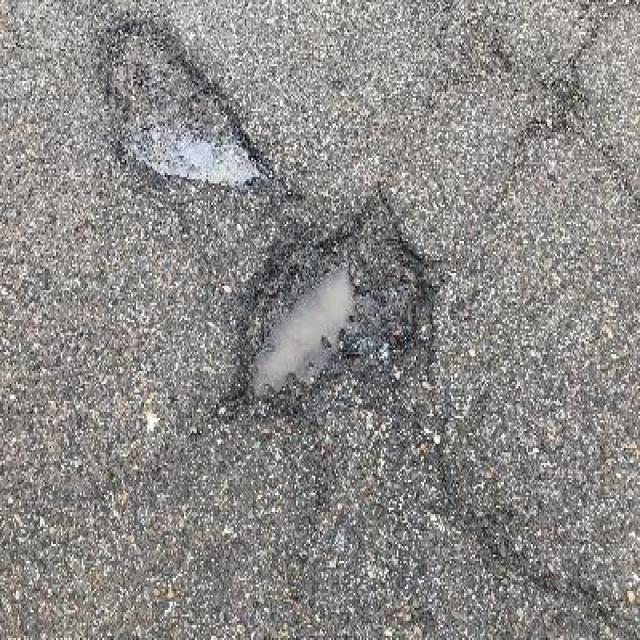Pothole: (189, 186, 450, 441), (106, 10, 271, 188)
